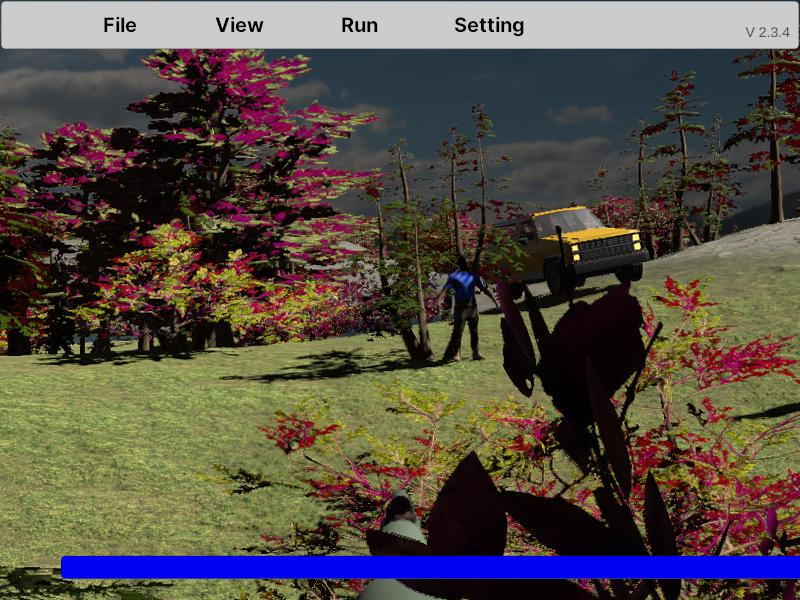Human: (436, 255, 498, 363)
car: (461, 206, 647, 298)
